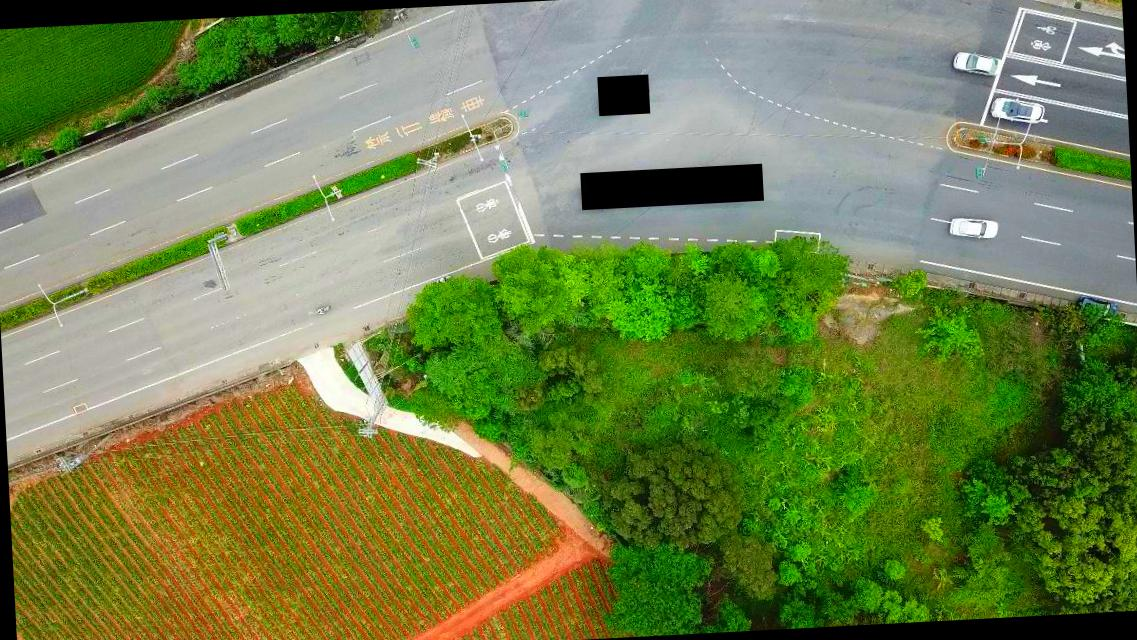vehicle: (989, 95, 1045, 126), (950, 48, 1002, 80), (945, 218, 998, 242), (1078, 298, 1118, 322)
